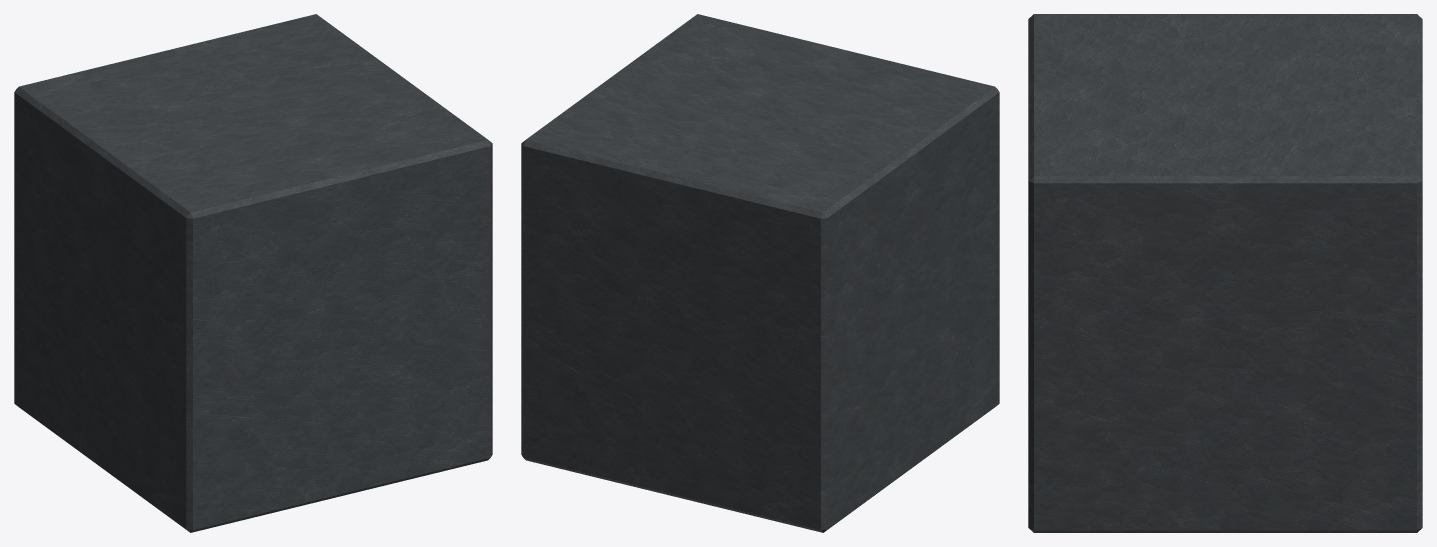
The model's file is train_sheet_metal_block.gltf.
3 views of the same model, side by side, from view 1: azimuth 30°, elevation 25°; view 2: azimuth 150°, elevation 25°; view 3: azimuth 270°, elevation 25° (orthographic). The views are drawn at different scales.
Size of the model in its own units: 1 by 1 by 1.
2 materials, 2 textured.
